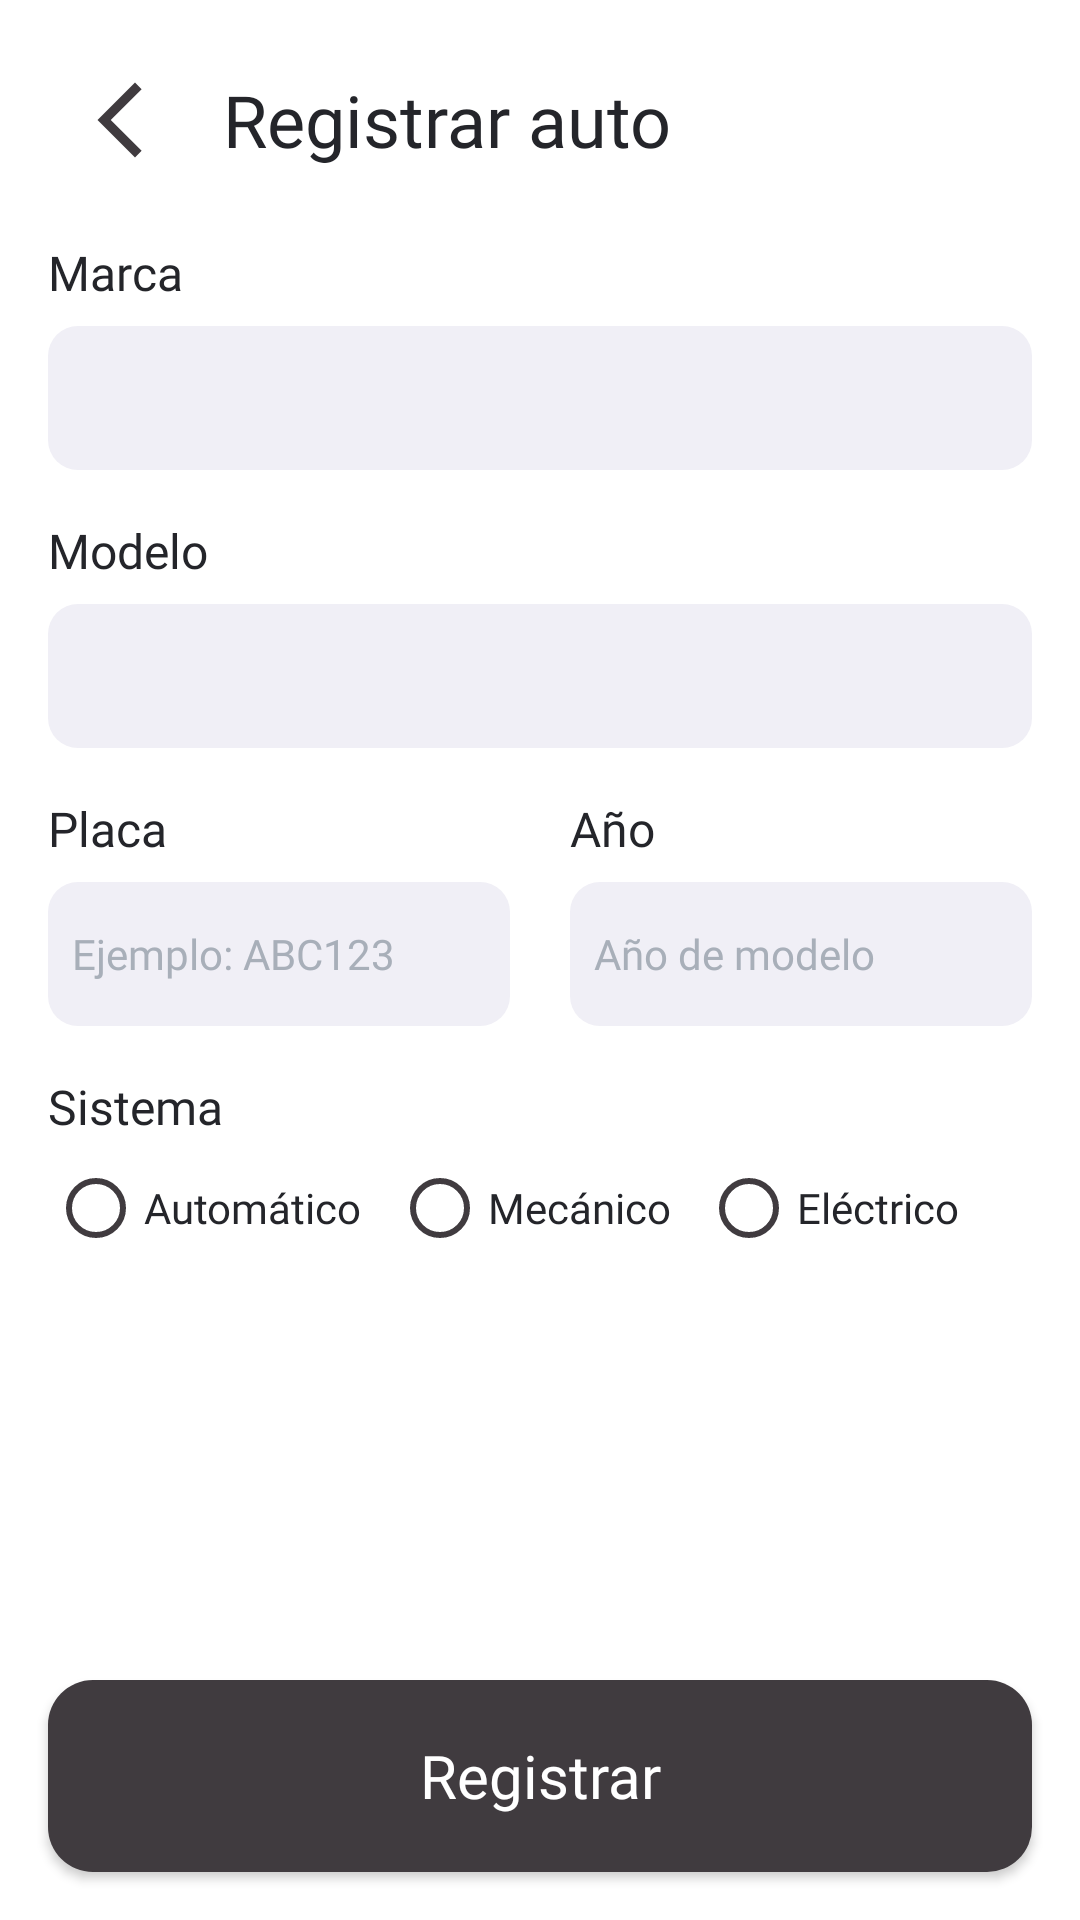

Named icons in this screenshot (1080px x 1920px) and their centers, point (x, y):
Flecha que indica la dirección hacia atras: point (120, 120)
